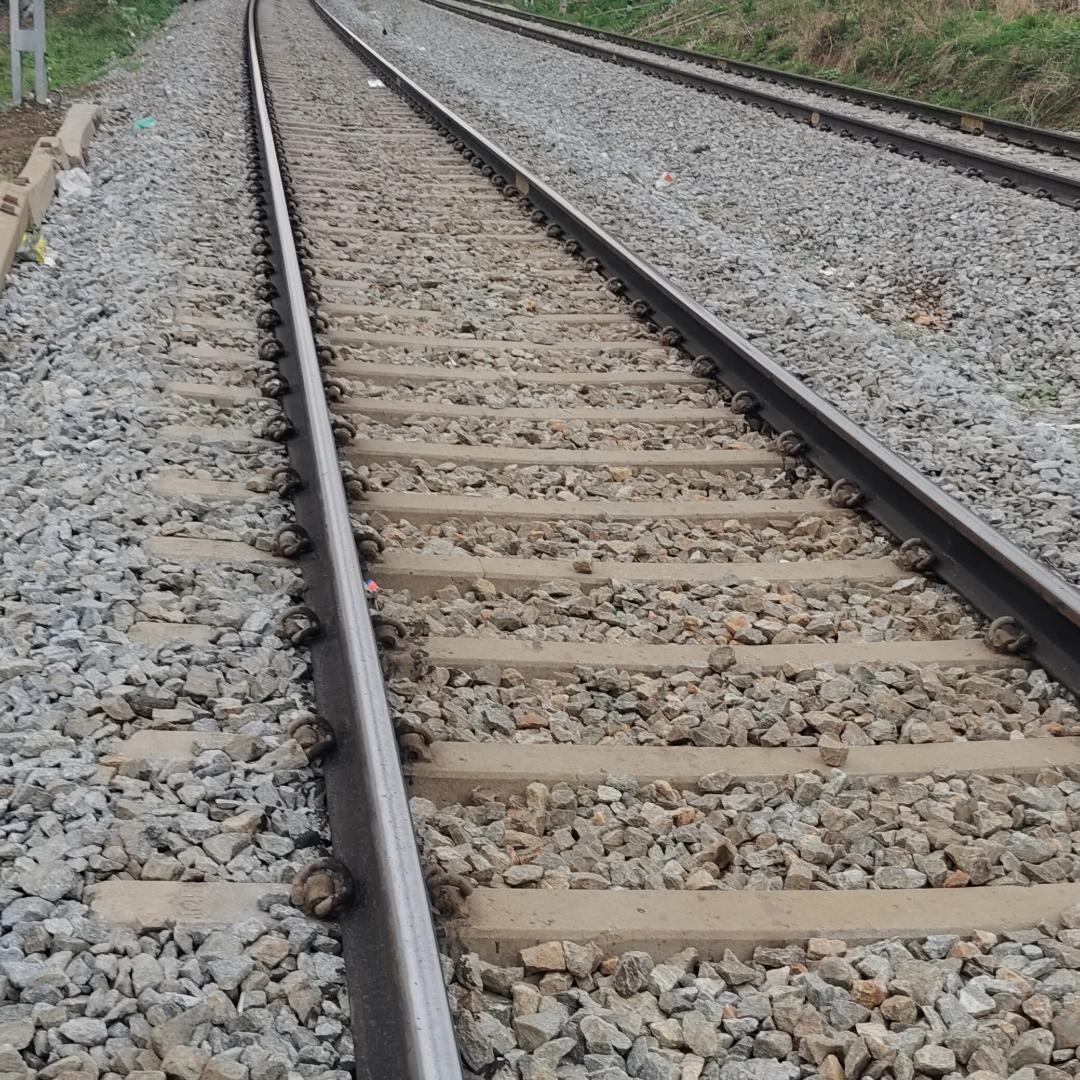track: (213, 0, 1080, 1080)
